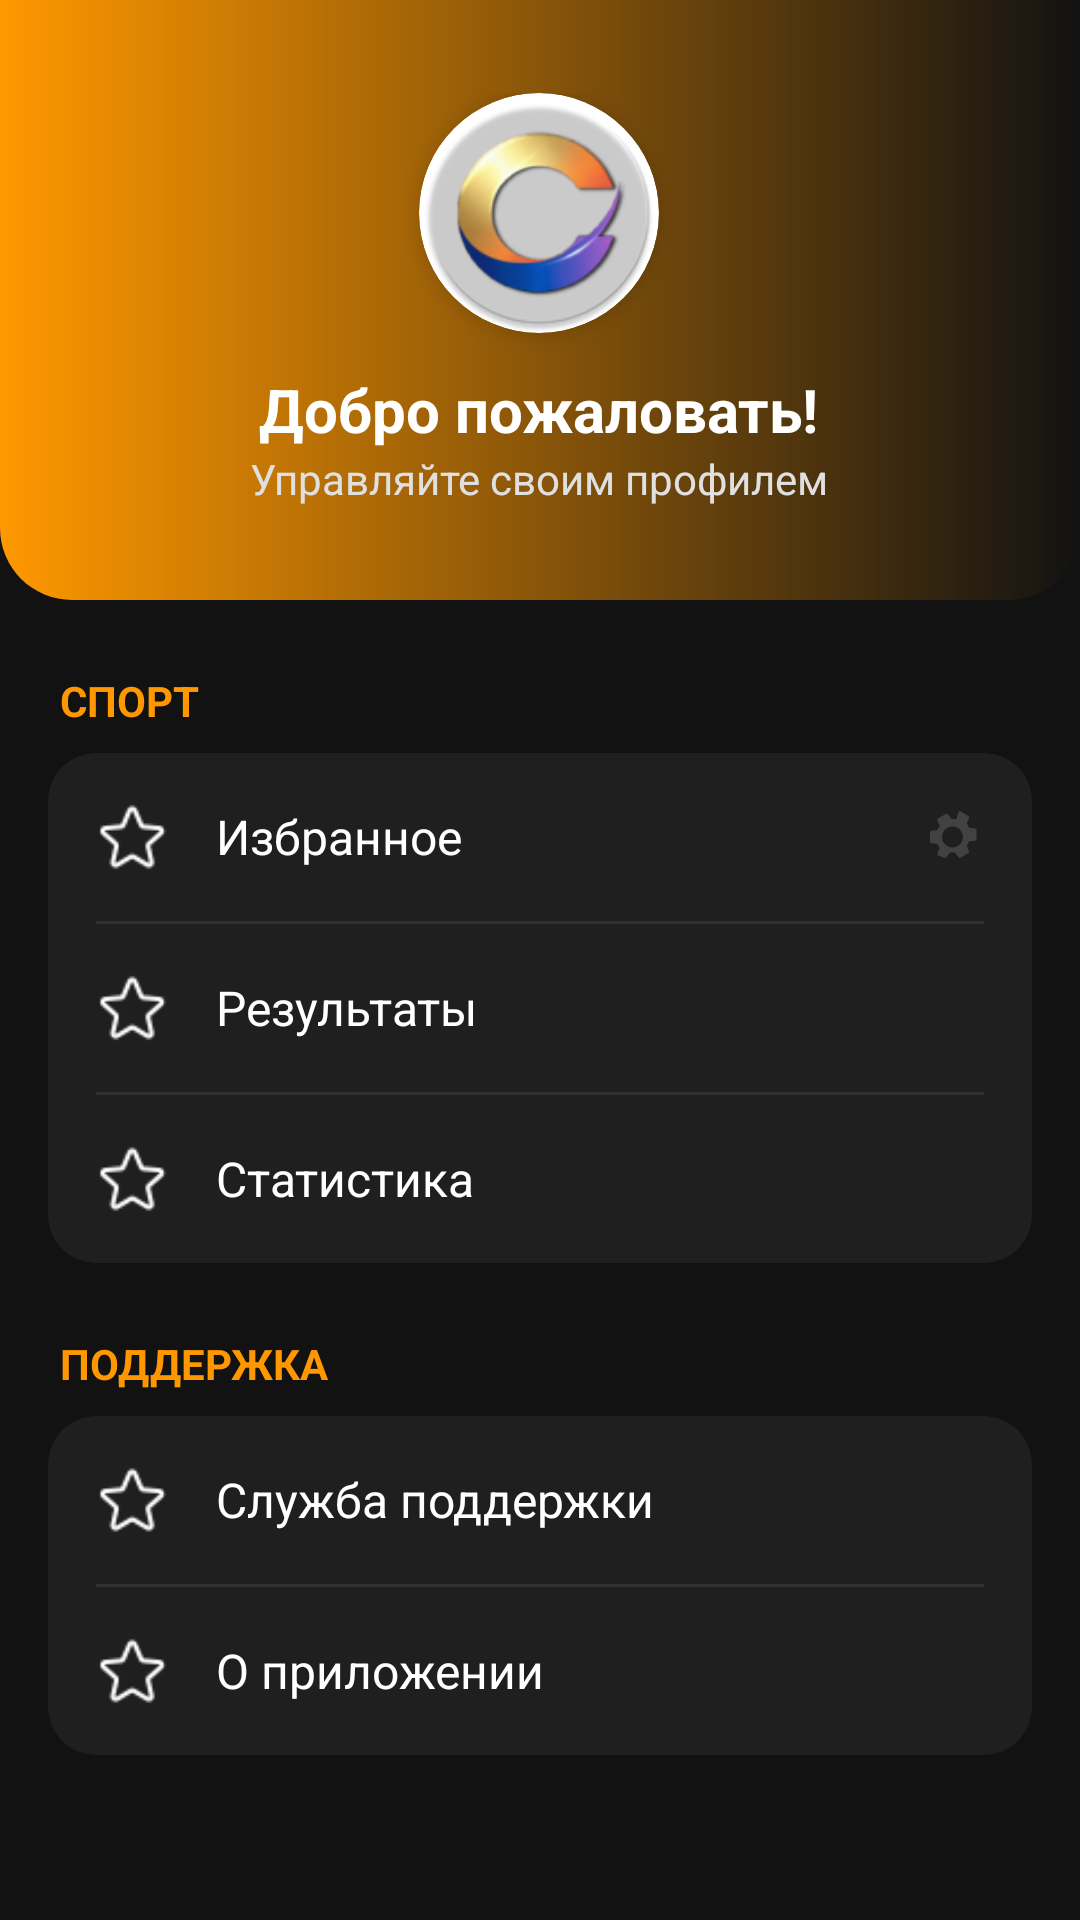

Screen size 1080px×1920px. Icon name, then its center in pixels as [x,y]:
star: [133,837], [133,1008], [133,1179], [133,1500], [133,1671]
